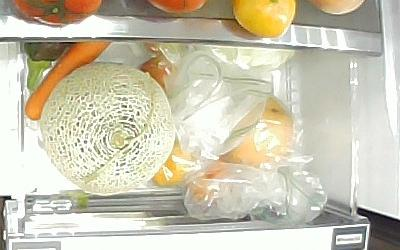cabbage: (199, 44, 295, 71)
carrot: (24, 40, 113, 121)
eggplant: (29, 41, 70, 61)
melon: (39, 61, 175, 195)
pear_vinyl: (221, 96, 293, 163)
tangerine_vinyl: (153, 143, 193, 186)
zucchini: (24, 38, 52, 93)
